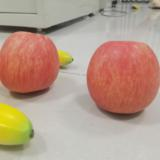apple: (87, 40, 160, 115), (1, 31, 59, 94)
